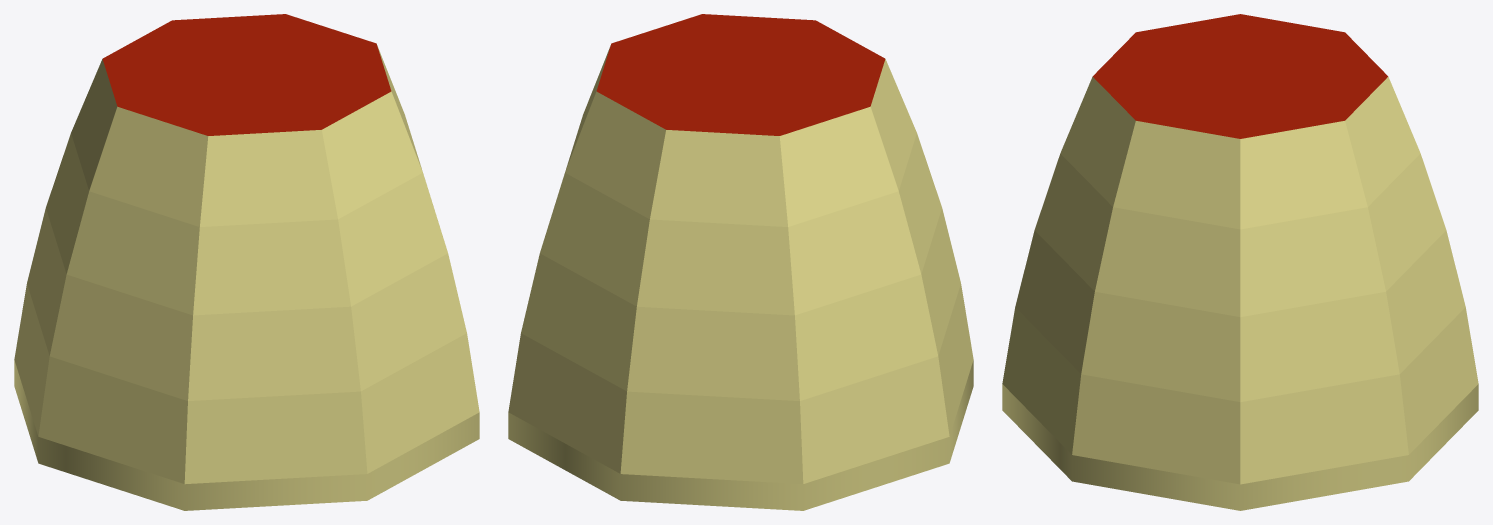
Rendered from low_pudding.FBX.
3 views of the same model, side by side, from view 1: azimuth 30°, elevation 25°; view 2: azimuth 150°, elevation 25°; view 3: azimuth 270°, elevation 25° (orthographic).
Parts seen in each view (by area): view 1: Cylinder002; view 2: Cylinder002; view 3: Cylinder002.
Part boxes in pixels (<box>): Cylinder002: <box>14,14,479,510</box>; Cylinder002: <box>508,14,973,510</box>; Cylinder002: <box>1002,14,1478,510</box>.
Bounding box in the file's own units: 80 × 61.86 × 80.
